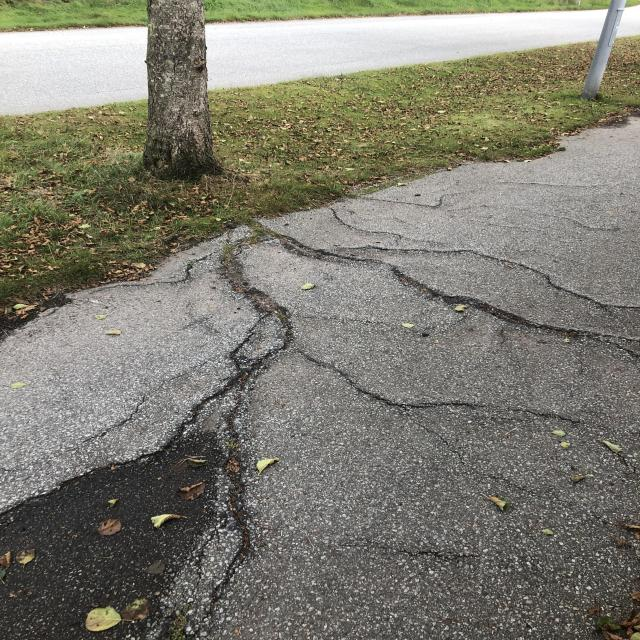Pothole: (11, 61, 632, 438)
